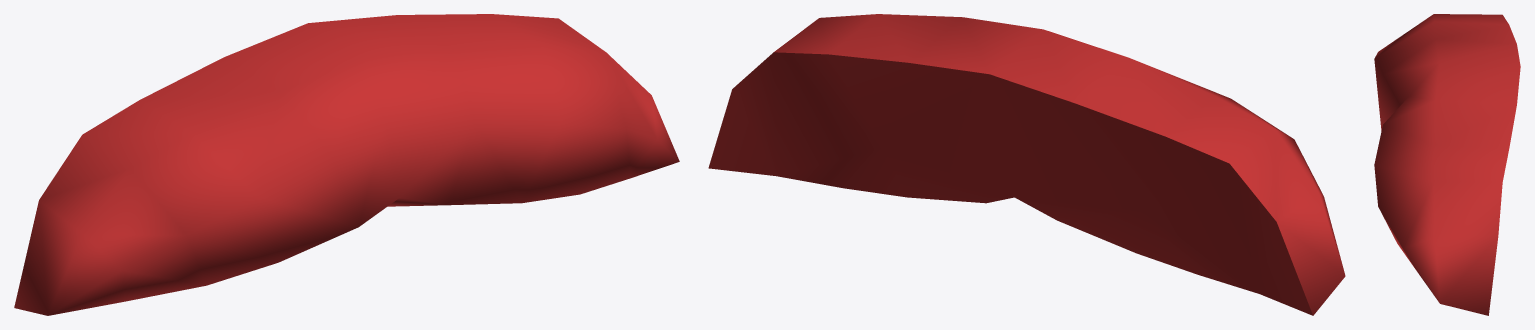
File: Beard_Red_4.fbx
The picture shows the model from 3 angles, left to right: view 1: azimuth 30°, elevation 25°; view 2: azimuth 150°, elevation 25°; view 3: azimuth 270°, elevation 25°; orthographic projection. The views are drawn at different scales.
Visible parts, largest first — view 1: Beard_Red_4; view 2: Beard_Red_4; view 3: Beard_Red_4.
Part boxes in pixels (x1,y1,x2,y2): Beard_Red_4: (14,14,679,315); Beard_Red_4: (708,14,1345,315); Beard_Red_4: (1374,14,1520,315).
Size of the model in its own units: 26.47 by 7.9 by 7.36.
